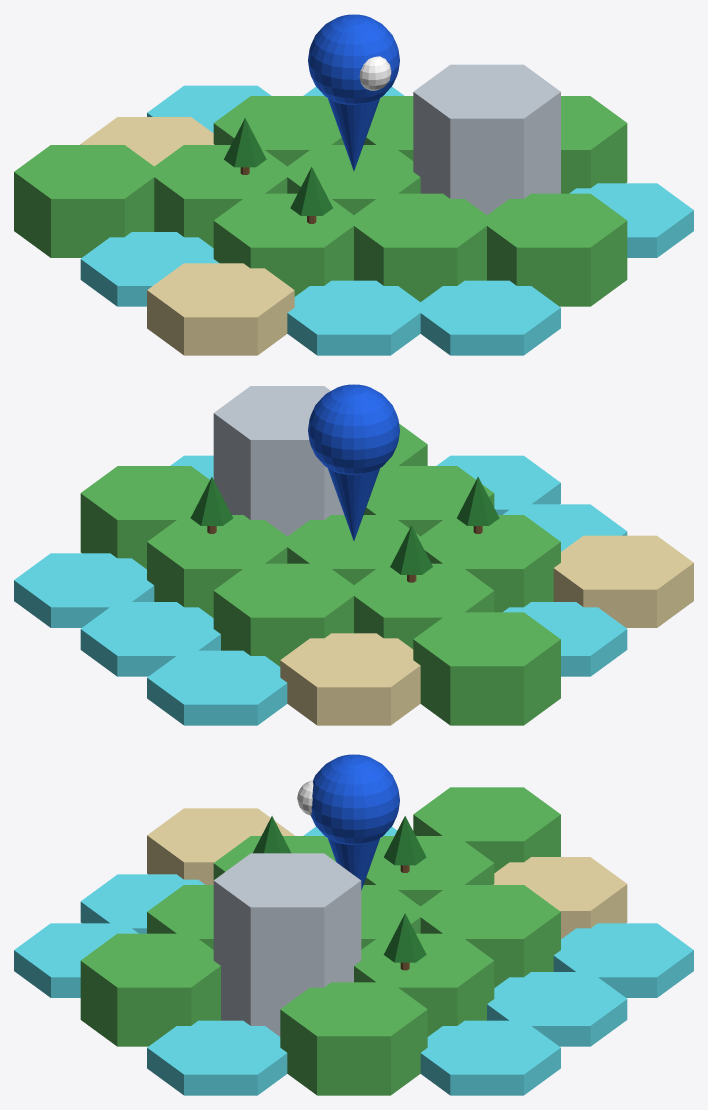
The model's file is hex-island.glb.
3 views of the same model, one above another, from view 1: azimuth 30°, elevation 25°; view 2: azimuth 150°, elevation 25°; view 3: azimuth 270°, elevation 25° (orthographic).
Visible parts, largest first — view 1: Cylinder.015, Cylinder.002, Cylinder.014, Cylinder.010, Cylinder, Cylinder.004, Cylinder.009, Cylinder.003, Cylinder.006, Cylinder.001, Cylinder.011, Sphere (+10 smaller); view 2: Cylinder.002, Cylinder.015, Cylinder.008, Cylinder.012, Cylinder, Cylinder.013, Cylinder.020, Cylinder.016, Cylinder.004, Cylinder.021, Cylinder.006, Cylinder.018 (+12 smaller); view 3: Cylinder.015, Cylinder.020, Cylinder.014, Cylinder.012, Cylinder.021, Cylinder.019, Cylinder.002, Cylinder.016, Cylinder.013, Cylinder.018, Sphere, Cylinder.008 (+11 smaller).
Part boxes in pixels (x1=…): Cylinder.015: x1=413, y1=64, x2=560, y2=214; Cylinder.002: x1=14, y1=145, x2=158, y2=257; Cylinder.014: x1=487, y1=193, x2=627, y2=306; Cylinder.010: x1=350, y1=193, x2=493, y2=301; Cylinder: x1=147, y1=263, x2=294, y2=355; Cylinder.004: x1=213, y1=193, x2=360, y2=296; Cylinder.009: x1=414, y1=280, x2=560, y2=355; Cylinder.003: x1=287, y1=280, x2=426, y2=355; Cylinder.006: x1=152, y1=145, x2=291, y2=247; Cylinder.001: x1=80, y1=232, x2=219, y2=306; Cylinder.011: x1=284, y1=145, x2=420, y2=214; Sphere: x1=308, y1=14, x2=399, y2=104; Cylinder.002: x1=413, y1=612, x2=560, y2=725; Cylinder.015: x1=213, y1=386, x2=344, y2=536; Cylinder.008: x1=280, y1=633, x2=420, y2=725; Cylinder.012: x1=213, y1=563, x2=359, y2=666; Cylinder: x1=553, y1=535, x2=693, y2=627; Cylinder.013: x1=147, y1=650, x2=287, y2=725; Cylinder.020: x1=80, y1=466, x2=209, y2=568; Cylinder.016: x1=147, y1=515, x2=287, y2=617; Cylinder.004: x1=418, y1=515, x2=560, y2=612; Cylinder.021: x1=14, y1=553, x2=154, y2=627; Cylinder.006: x1=347, y1=563, x2=494, y2=649; Cylinder.018: x1=80, y1=602, x2=220, y2=676; Cylinder.015: x1=213, y1=853, x2=361, y2=1036; Cylinder.020: x1=280, y1=982, x2=427, y2=1095; Cylinder.014: x1=80, y1=933, x2=220, y2=1046; Cylinder.012: x1=415, y1=885, x2=560, y2=987; Cylinder.021: x1=420, y1=1020, x2=560, y2=1095; Cylinder.019: x1=147, y1=1020, x2=287, y2=1095; Cylinder.002: x1=413, y1=787, x2=560, y2=872; Cylinder.016: x1=354, y1=933, x2=494, y2=1036; Cylinder.013: x1=553, y1=923, x2=693, y2=997; Cylinder.018: x1=487, y1=972, x2=627, y2=1046; Sphere: x1=311, y1=754, x2=399, y2=844; Cylinder.008: x1=493, y1=857, x2=627, y2=938.
Bounding box in the file's own units: 7.66 × 3.05 × 8.85.
